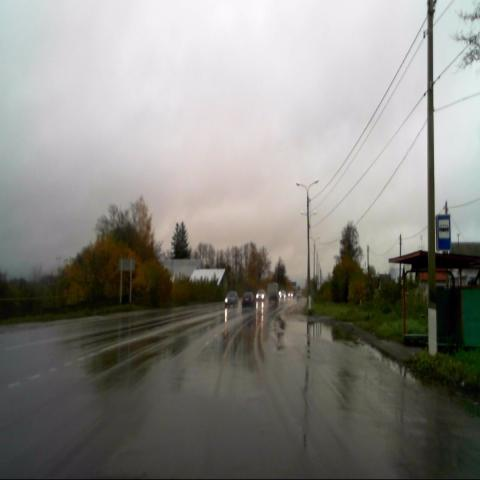5_16: (436, 213, 452, 251)
